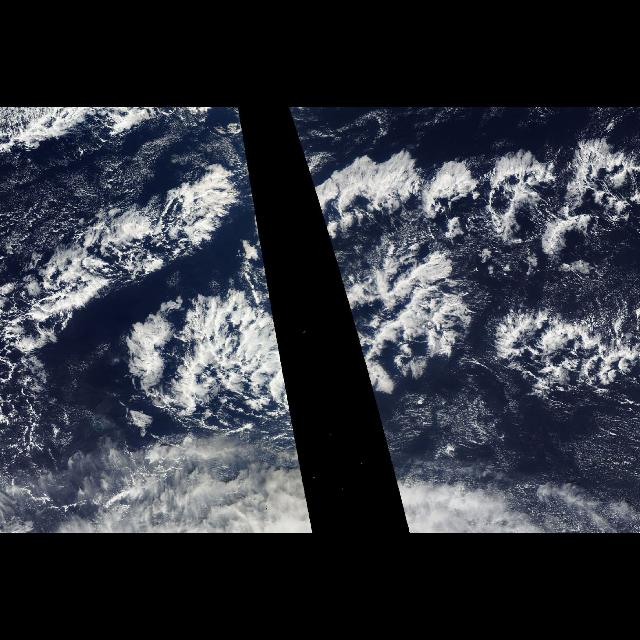Fish: (296, 132, 624, 440), (128, 132, 298, 440)
Flower: (308, 138, 640, 276)
Sugar: (528, 394, 634, 508)
